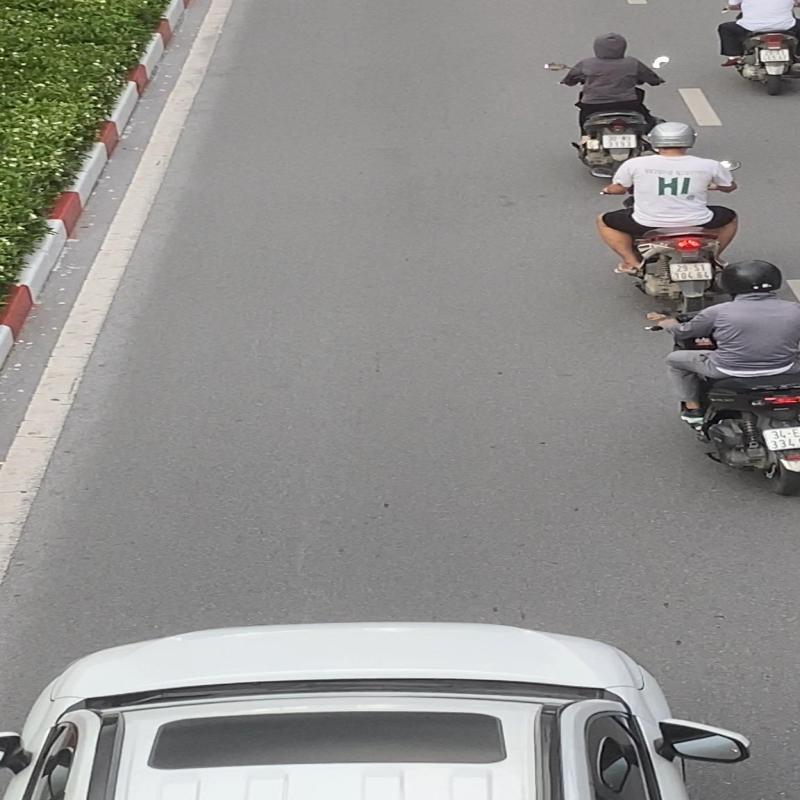helmet: (719, 259, 784, 293), (646, 123, 698, 150)
licenseplate: (669, 262, 714, 282)
motorcyclist: (664, 258, 800, 497), (600, 122, 742, 316)
